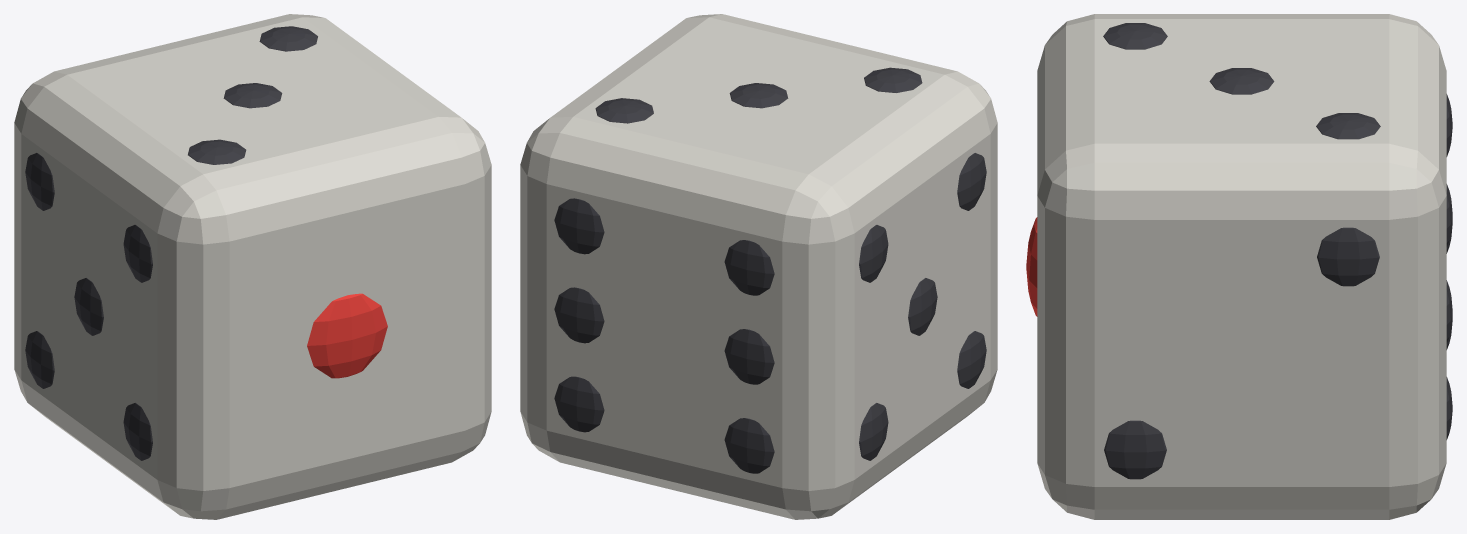
File: dice.glb
The picture shows the model from 3 angles, left to right: view 1: azimuth 30°, elevation 25°; view 2: azimuth 150°, elevation 25°; view 3: azimuth 270°, elevation 25°; orthographic projection. The views are drawn at different scales.
Visible parts, largest first — view 1: Dice; view 2: Dice; view 3: Dice.
Part boxes in pixels (x1,y1,x2,y2): Dice: (14, 14, 491, 519); Dice: (520, 14, 997, 519); Dice: (1026, 14, 1452, 519).
Size of the model in its own units: 0.5137 by 0.515 by 0.521.
